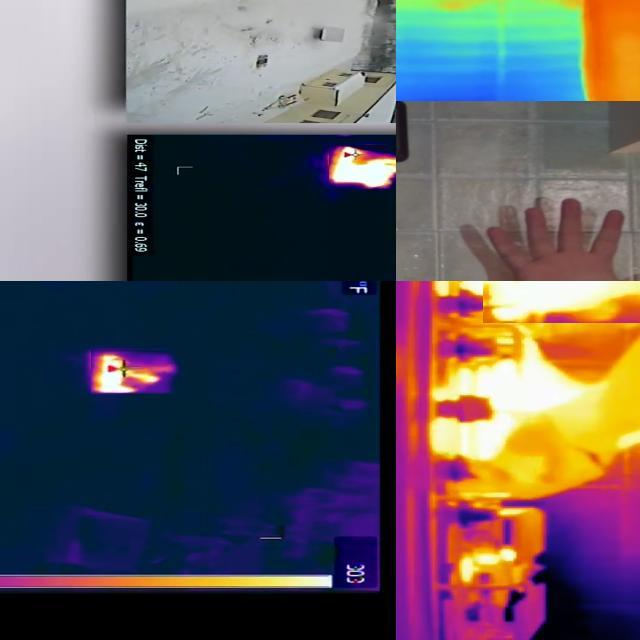fire: (441, 340, 559, 463), (483, 282, 640, 324), (91, 351, 181, 395), (329, 146, 397, 190)
